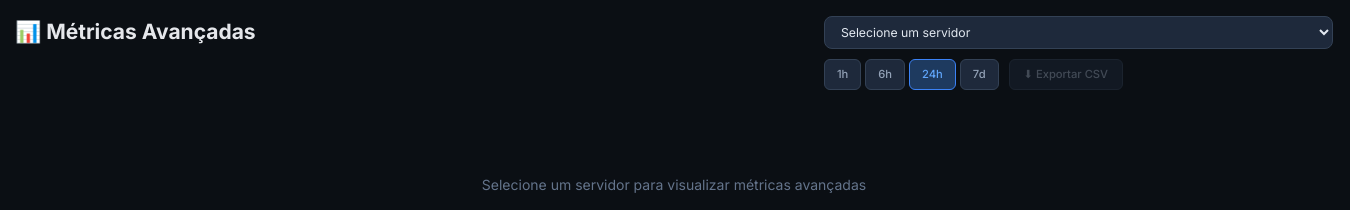
Test: AdvancedMetrics › handles loading state
Select "Server-1" in the dropdown. click: (1078, 32)
box: [824, 16, 1333, 49]
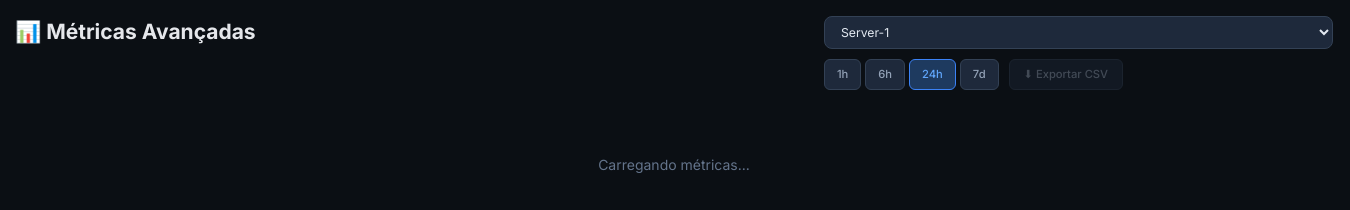
Expected: the text "Carregando métricas..." is shown, [598, 156, 750, 173]
